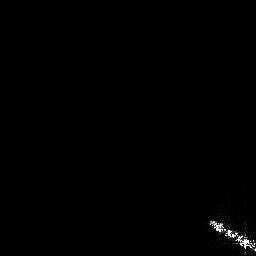ship: (208, 214, 256, 254)
